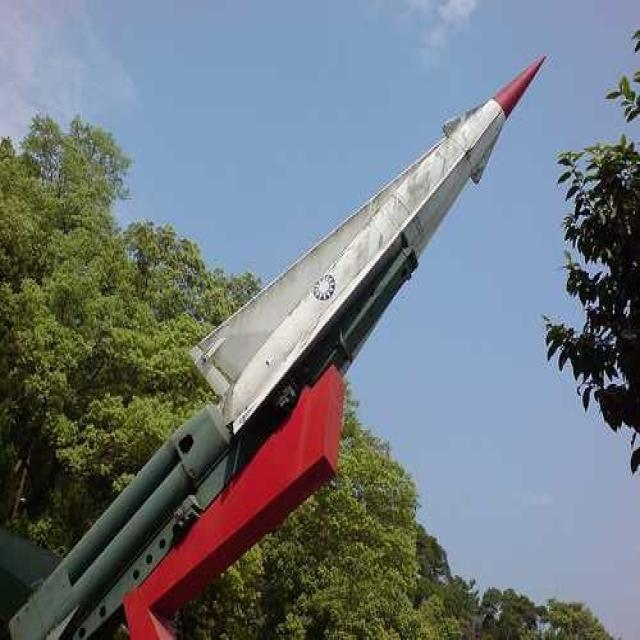missile: (193, 48, 549, 452)
